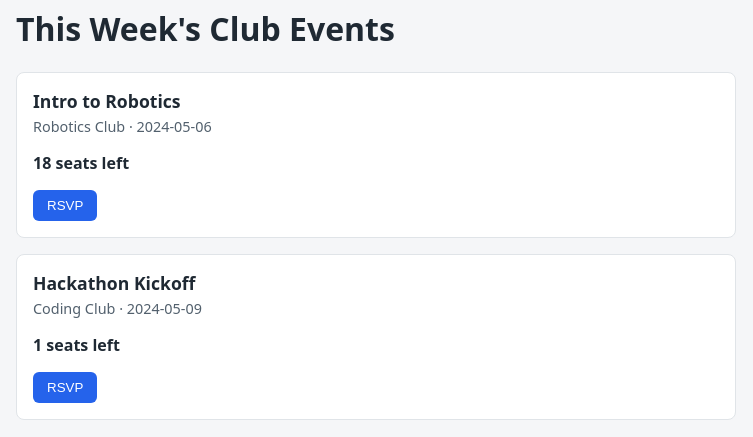
App RSVP flow › updates the seats-left number immediately after a successful RSVP
Expected: the text "18 seats left" is shown, [33, 152, 129, 174]
What coordinates should you click on to do the following:
click the button "RSVP" below "18"
I would click on:
 (65, 205)
Its box is [33, 190, 97, 221].
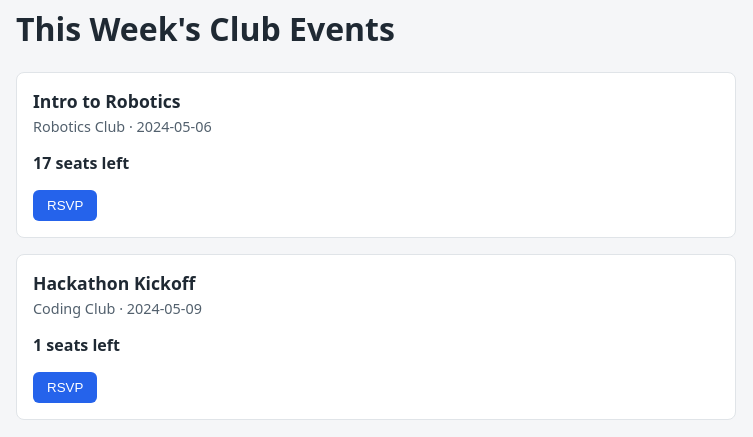
Expected: the text "17 seats left" is shown, [33, 152, 129, 174]
